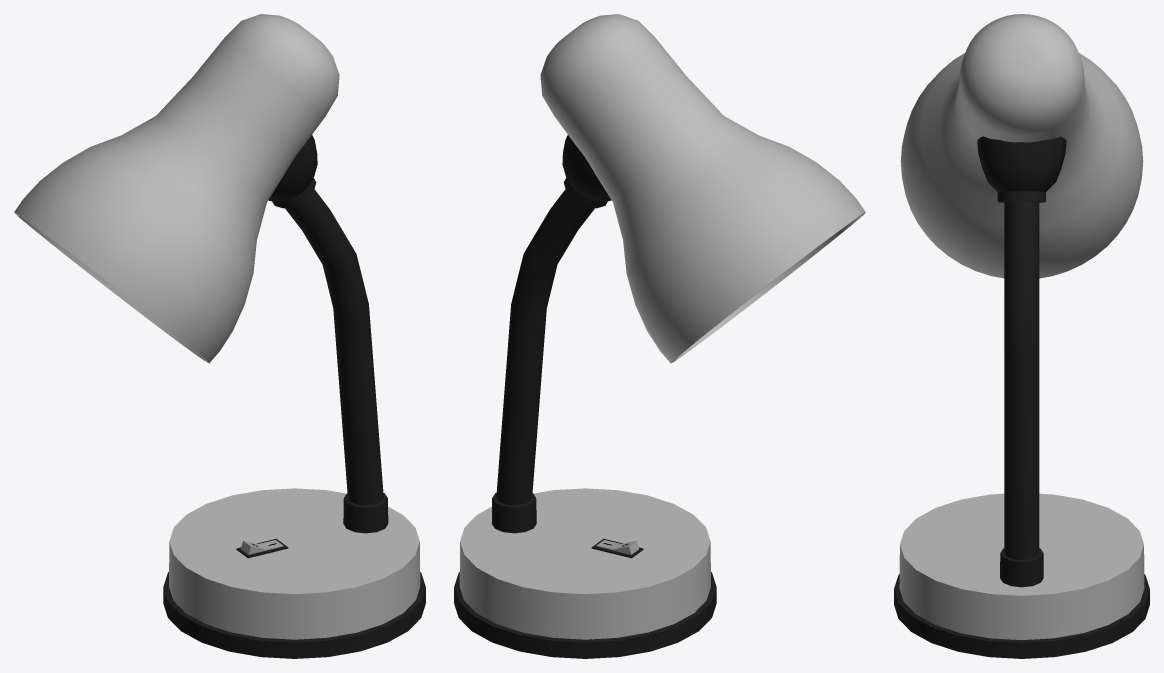
Rendered from office-lamp.glb.
The picture shows the model from 3 angles, left to right: view 1: azimuth 30°, elevation 25°; view 2: azimuth 150°, elevation 25°; view 3: azimuth 270°, elevation 25°; orthographic projection. The views are drawn at different scales.
Parts seen in each view (by area): view 1: SM_Lamp_Material__30_0; view 2: SM_Lamp_Material__30_0; view 3: SM_Lamp_Material__30_0.
Part boxes in pixels (box(x1,y1,x2,y2)): SM_Lamp_Material__30_0: box(14, 14, 425, 658); SM_Lamp_Material__30_0: box(454, 14, 865, 658); SM_Lamp_Material__30_0: box(894, 14, 1149, 658).
Size of the model in its own units: 0.2974 by 0.45 by 0.1817.
2 materials, 1 textured.
